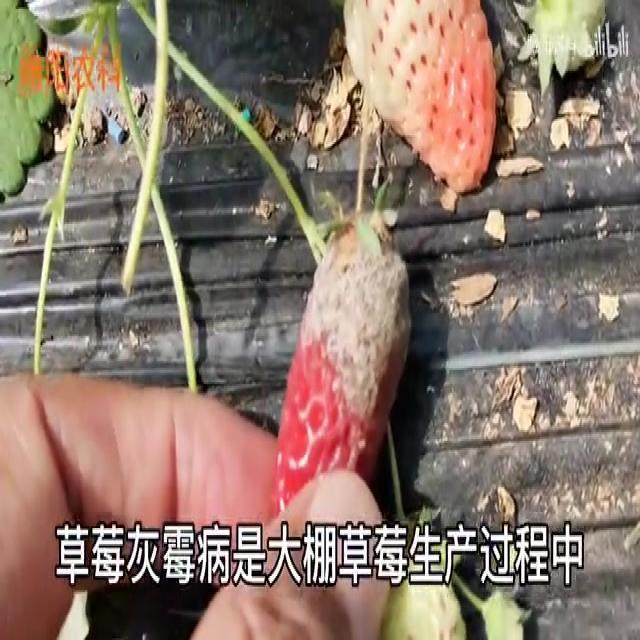Moho gris: (263, 194, 399, 498)
